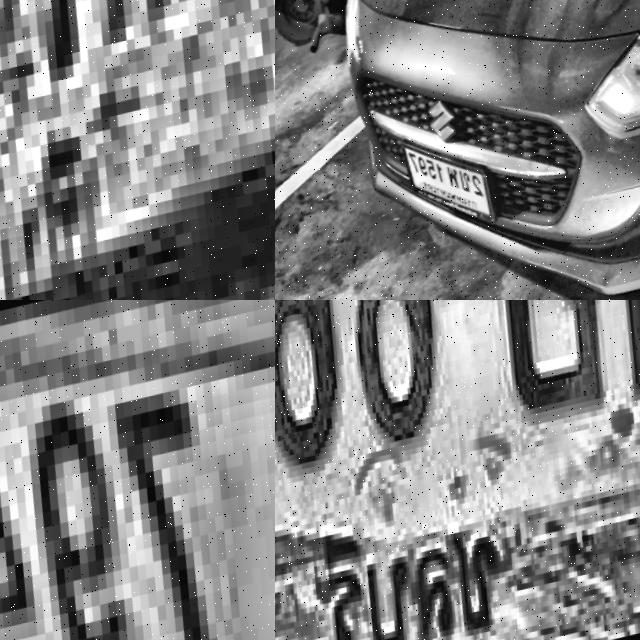license-plate: (275, 300, 640, 640), (0, 300, 275, 640), (0, 0, 275, 300), (396, 120, 509, 247)
